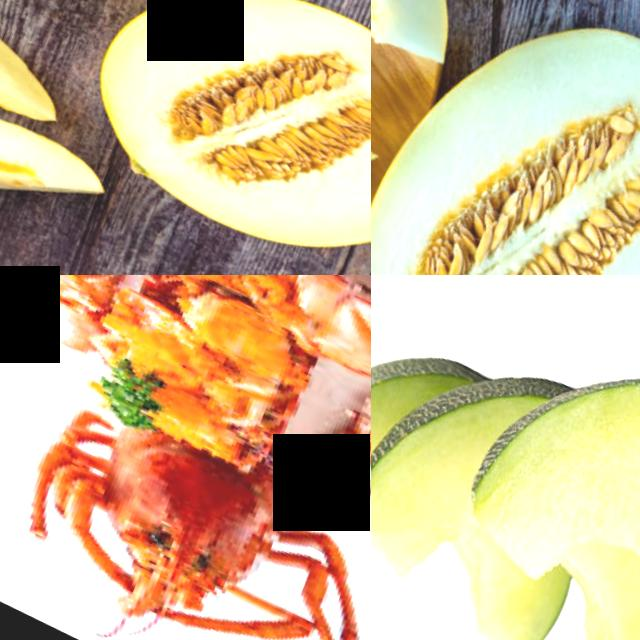lobster tails: (82, 275, 371, 453)
melon: (65, 0, 371, 275), (371, 0, 640, 275), (451, 298, 640, 640), (371, 345, 510, 594), (0, 11, 110, 275), (371, 304, 409, 528)
